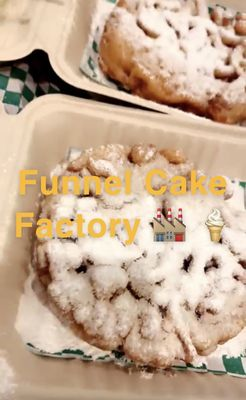sandwich: (27, 142, 245, 367)
